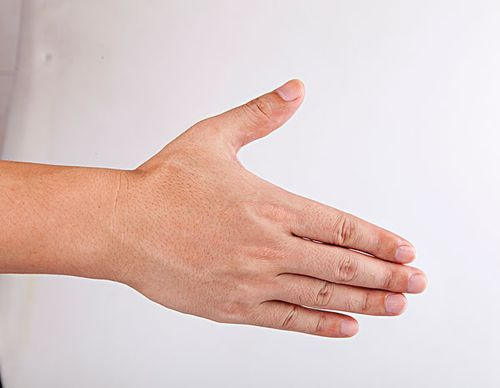no-phone: (117, 76, 432, 345)
